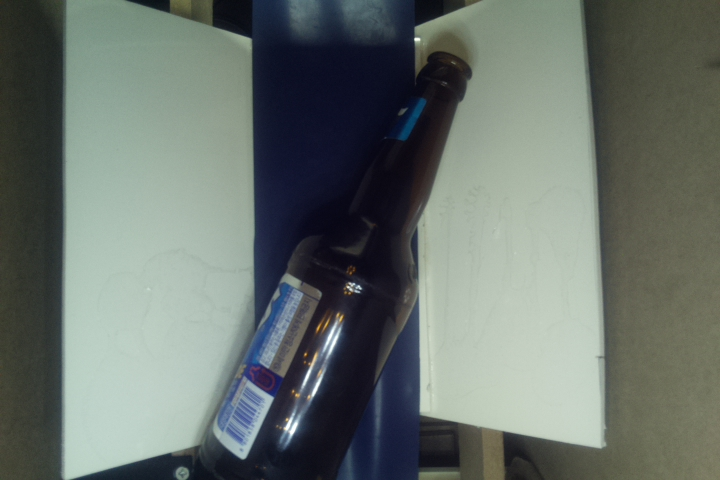makju: (180, 50, 475, 480)
